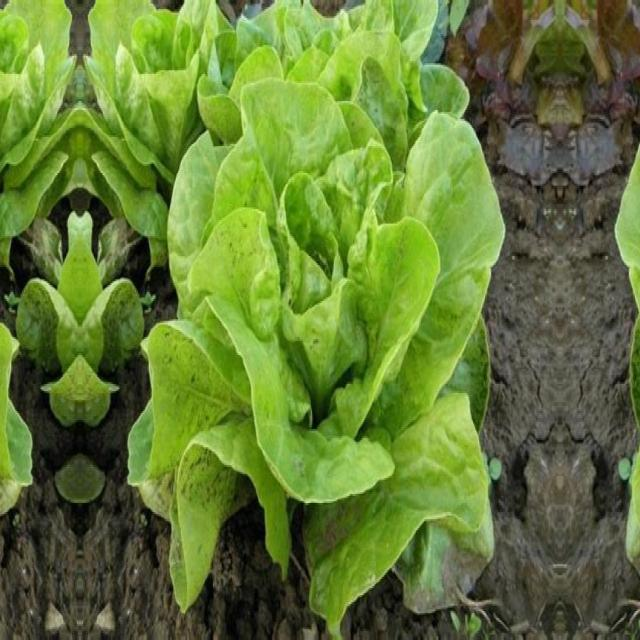healthy: (150, 82, 502, 598), (80, 0, 232, 242), (0, 0, 80, 242), (617, 82, 640, 598), (0, 82, 10, 598)
